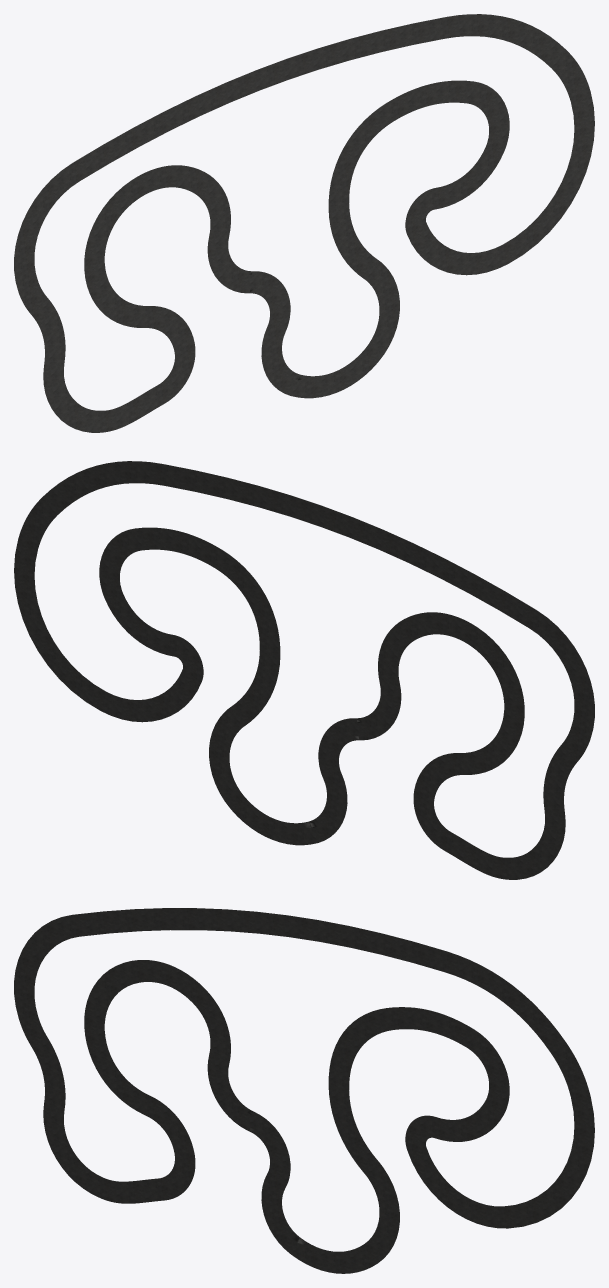
Rendered from track7_road.obj.
3 renders of one model, top to bottom at view 1: azimuth 30°, elevation 25°; view 2: azimuth 150°, elevation 25°; view 3: azimuth 330°, elevation 25°, orthographic.
Visible parts, largest first — view 1: road_0_curve_; view 2: road_0_curve_; view 3: road_0_curve_.
Boxes of the visible parts, x1,y1,x2,y2 form: road_0_curve_: (14, 14, 594, 432); road_0_curve_: (14, 461, 594, 879); road_0_curve_: (14, 908, 594, 1273).
Bounding box in the file's own units: 46.22 × 26.76 × 0.
1 material, 1 textured.
